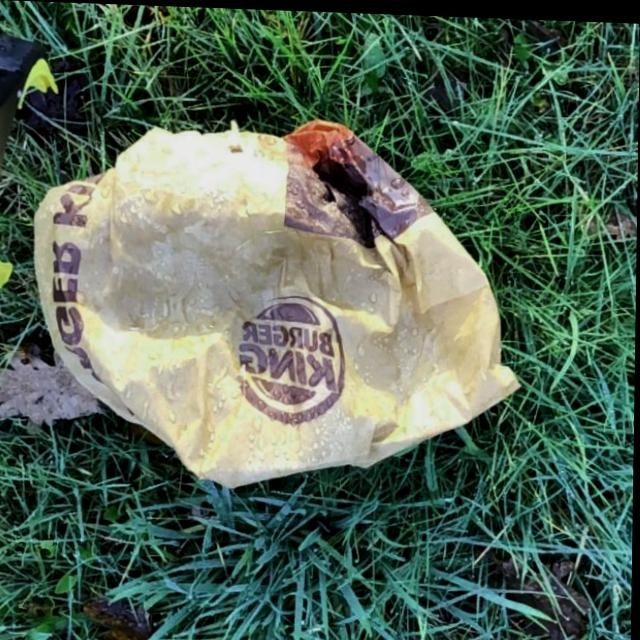Paper: (27, 104, 528, 497)
